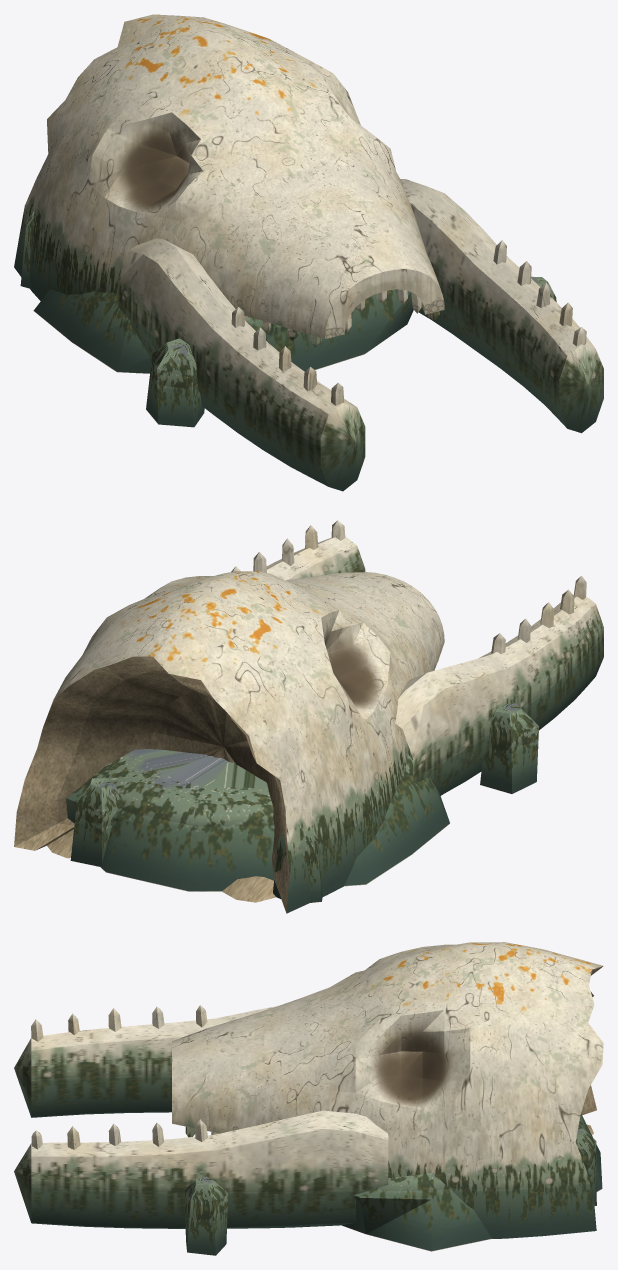
Rendered from the-jaw.glb.
3 renders of one model, top to bottom at view 1: azimuth 30°, elevation 25°; view 2: azimuth 150°, elevation 25°; view 3: azimuth 270°, elevation 25°, orthographic. The views are drawn at different scales.
Parts seen in each view (by area): view 1: the-jaw; view 2: the-jaw; view 3: the-jaw.
Part boxes in pixels (x1=…): the-jaw: x1=14, y1=14, x2=603, y2=491; the-jaw: x1=14, y1=520, x2=603, y2=913; the-jaw: x1=14, y1=942, x2=603, y2=1255.
Size of the model in its own units: 18.57 by 11.54 by 27.28.
Materials: 1 (1 with a texture image).
